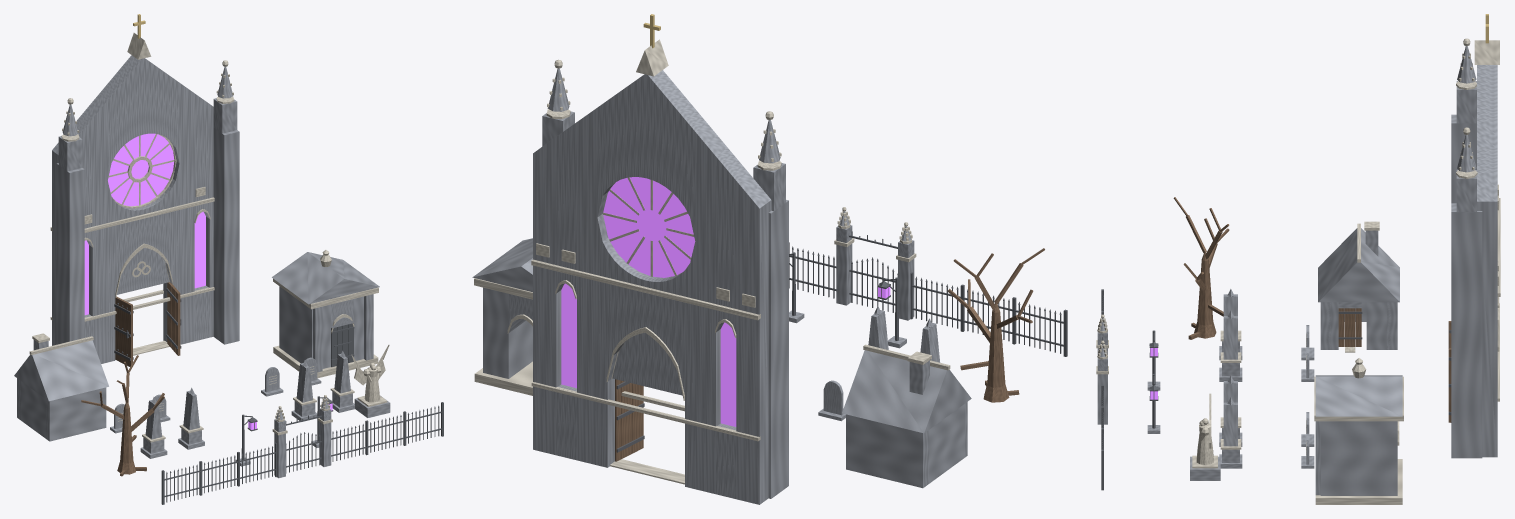
3 views of the same model, side by side, from view 1: azimuth 30°, elevation 25°; view 2: azimuth 150°, elevation 25°; view 3: azimuth 270°, elevation 25° (orthographic). The views are drawn at different scales.
Parts seen in each view (by area): view 1: 000-rose-window-wall/0, 002-mausoleum/1, 003-sexton-hut/0, 000-rose-window-wall/2, 000-rose-window-wall/1, 005-dead-tree/0, 001-portal-door-open/4, 002-mausoleum/0, 006-iron-fence-gate/0, 001-portal-door-open/door-leaf-west, 004-angel-statue/1, 012-headstone-obelisk/0 (+11 smaller); view 2: 000-rose-window-wall/0, 003-sexton-hut/0, 000-rose-window-wall/2, 000-rose-window-wall/1, 002-mausoleum/1, 005-dead-tree/0, 001-portal-door-open/4, 006-iron-fence-gate/0, 001-portal-door-open/door-leaf-east, 002-mausoleum/0, 019-iron-fence-straight/0, 017-iron-fence-straight/0 (+6 smaller); view 3: 000-rose-window-wall/0, 002-mausoleum/1, 003-sexton-hut/0, 005-dead-tree/0, 002-mausoleum/0, 000-rose-window-wall/1, 016-headstone-obelisk/0, 012-headstone-obelisk/0, 004-angel-statue/1, 006-iron-fence-gate/0, 003-sexton-hut/door-leaf/timber, 004-angel-statue/0 (+2 smaller).
Boxes of the visible parts, x1,y1,x2,y2 form: 000-rose-window-wall/0: [52, 55, 239, 363]; 002-mausoleum/1: [272, 252, 379, 372]; 003-sexton-hut/0: [14, 340, 108, 441]; 000-rose-window-wall/2: [84, 133, 205, 314]; 000-rose-window-wall/1: [50, 33, 234, 321]; 005-dead-tree/0: [81, 355, 164, 476]; 001-portal-door-open/4: [117, 247, 169, 294]; 002-mausoleum/0: [273, 250, 378, 378]; 006-iron-fence-gate/0: [274, 398, 331, 478]; 001-portal-door-open/door-leaf-west: [115, 296, 132, 366]; 004-angel-statue/1: [351, 345, 389, 406]; 012-headstone-obelisk/0: [178, 387, 204, 449]; 000-rose-window-wall/0: [533, 68, 788, 504]; 003-sexton-hut/0: [842, 350, 971, 488]; 000-rose-window-wall/2: [561, 177, 736, 426]; 000-rose-window-wall/1: [531, 39, 781, 441]; 002-mausoleum/1: [472, 238, 532, 378]; 005-dead-tree/0: [947, 248, 1044, 402]; 001-portal-door-open/4: [612, 332, 682, 395]; 006-iron-fence-gate/0: [836, 211, 914, 320]; 001-portal-door-open/door-leaf-east: [615, 379, 643, 461]; 002-mausoleum/0: [474, 278, 532, 395]; 019-iron-fence-straight/0: [910, 272, 964, 331]; 017-iron-fence-straight/0: [1012, 297, 1067, 356]; 000-rose-window-wall/0: [1451, 46, 1497, 458]; 002-mausoleum/1: [1315, 375, 1402, 495]; 003-sexton-hut/0: [1318, 228, 1399, 349]; 005-dead-tree/0: [1173, 197, 1229, 339]; 002-mausoleum/0: [1314, 358, 1403, 504]; 000-rose-window-wall/1: [1456, 38, 1500, 401]; 016-headstone-obelisk/0: [1219, 397, 1242, 468]; 012-headstone-obelisk/0: [1219, 310, 1242, 381]; 004-angel-statue/1: [1192, 393, 1217, 468]; 006-iron-fence-gate/0: [1097, 318, 1107, 424]; 003-sexton-hut/door-leaf/timber: [1338, 308, 1361, 346]; 004-angel-statue/0: [1190, 456, 1220, 480].
Bounding box in the file's own units: 17.83 × 17 × 15.77.
Materials: 6 (3 with a texture image).
